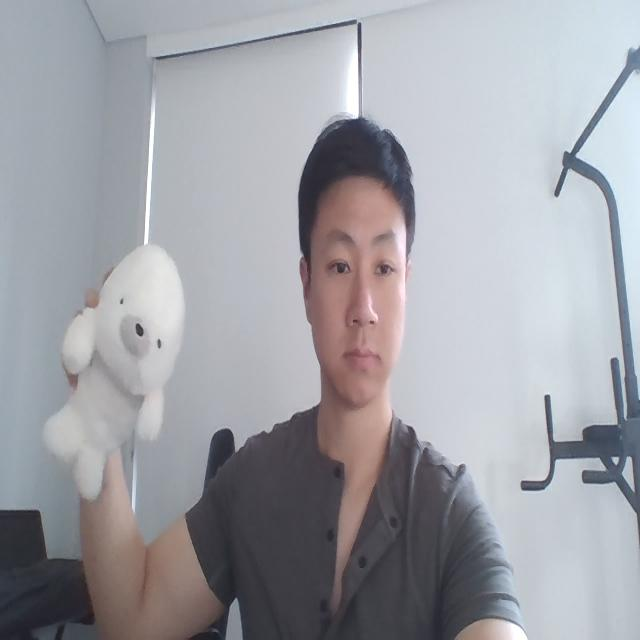seal_bb: (44, 243, 184, 503)
